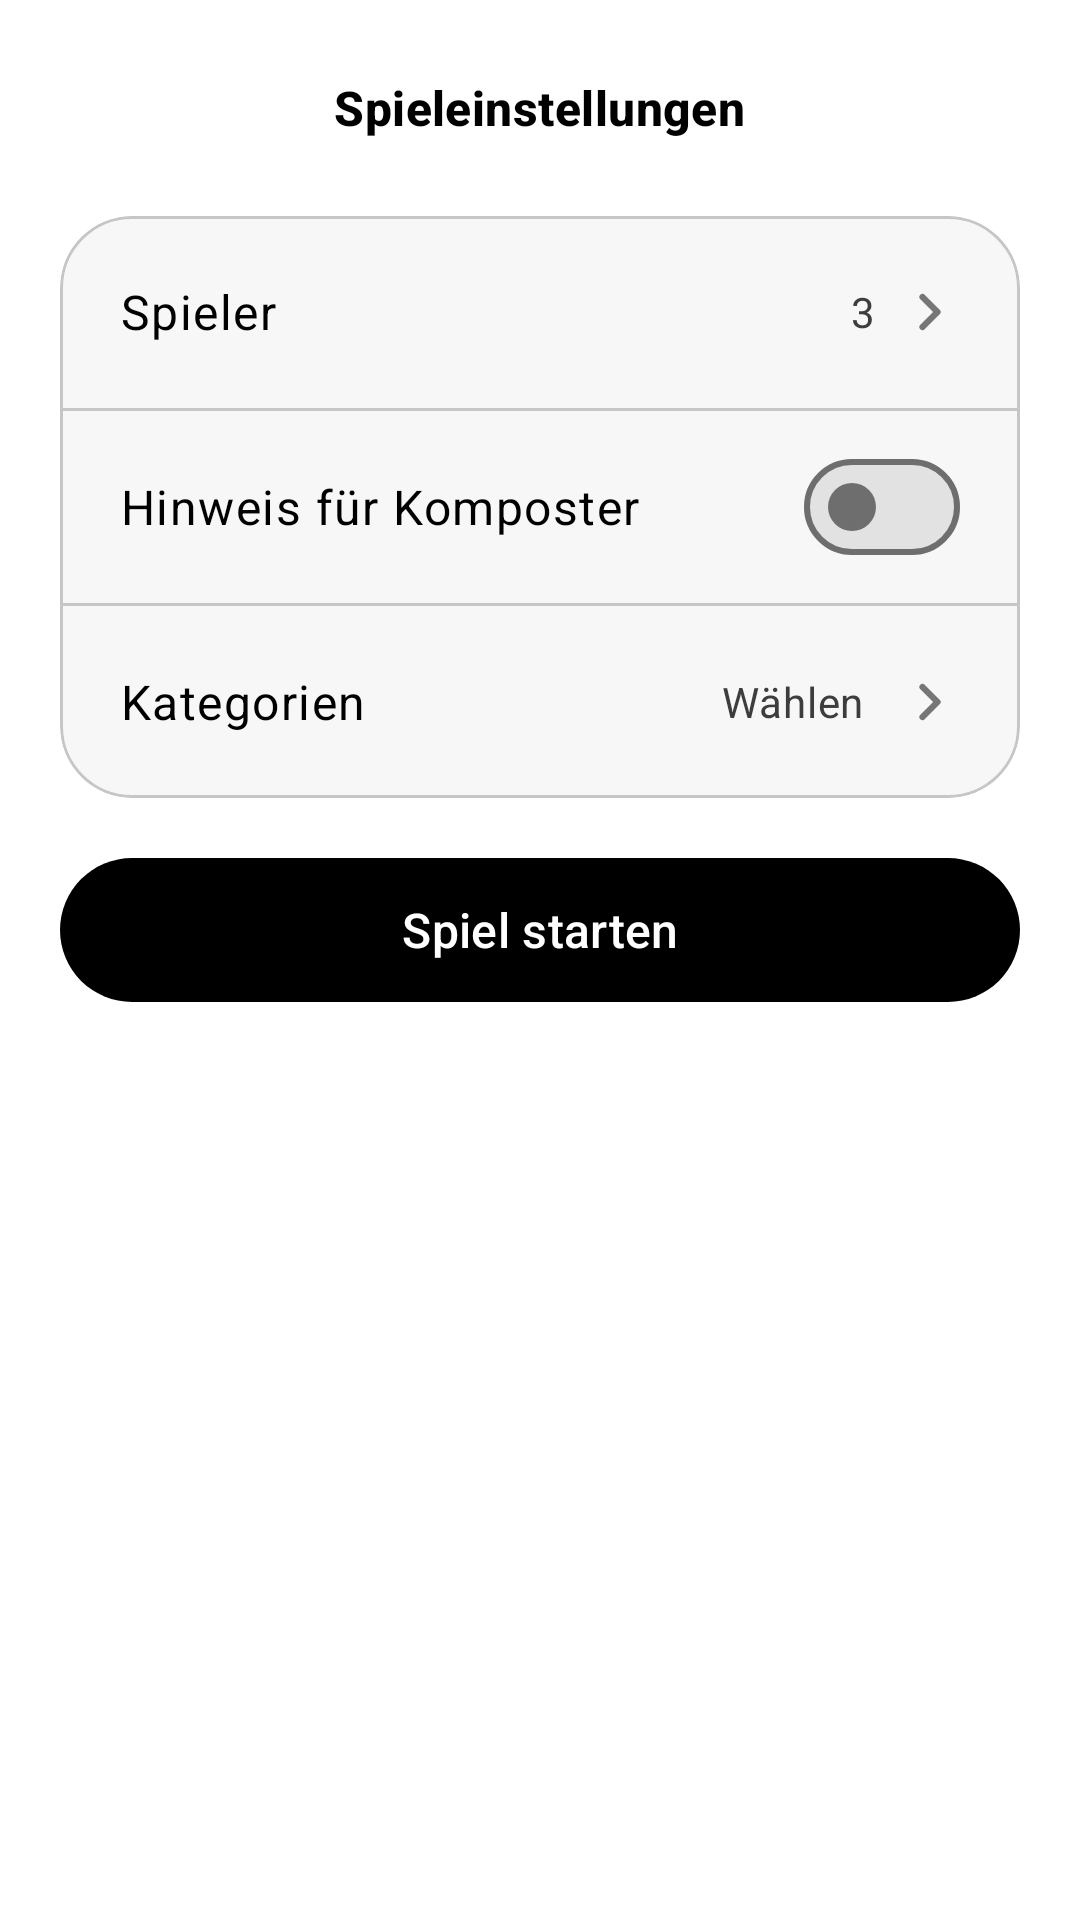

Named icons in this screenshot (1080w x 1920h) and their bounding boxes, rect(x1, y1, x2, y2):
chevron right: rect(919, 293, 941, 331), rect(919, 683, 941, 721)
